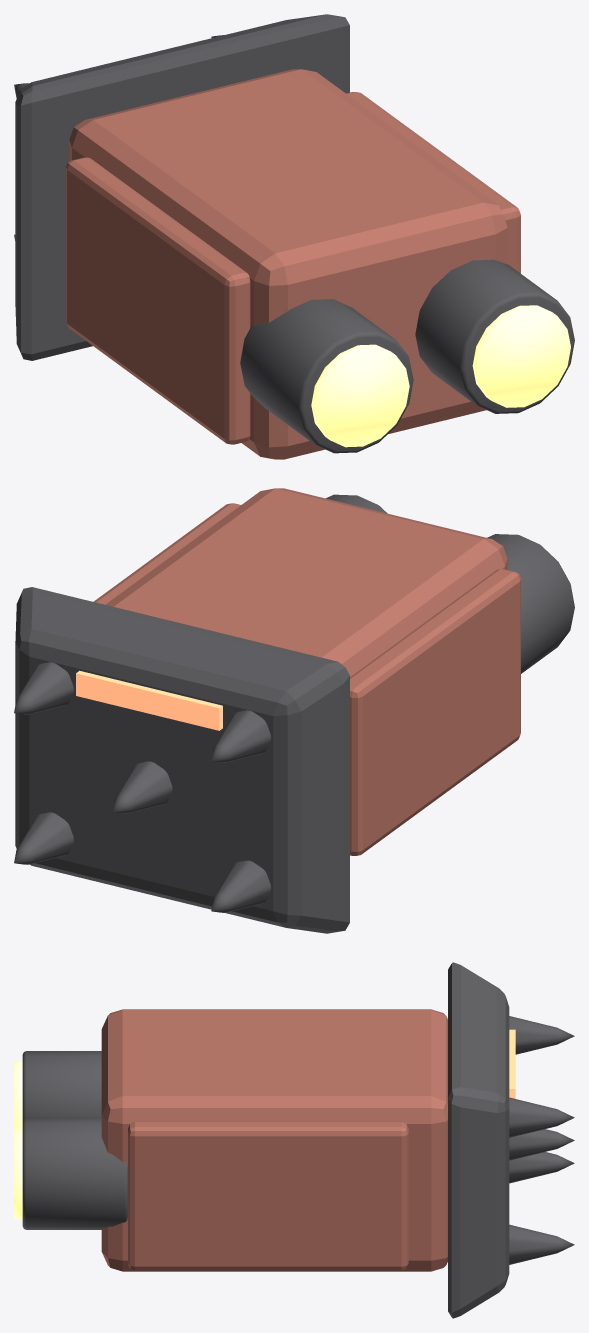
Rendered from rammbock.glb.
The picture shows the model from 3 angles, top to bottom: view 1: azimuth 30°, elevation 25°; view 2: azimuth 150°, elevation 25°; view 3: azimuth 270°, elevation 25°; orthographic projection. The views are drawn at different scales.
Visible parts, largest first — view 1: Rumpf.001, Flanke-1, Rammplatte, Triebwerk-1, Triebwerk1, Duese1.001, Duese-1.001, Flanke1; view 2: Rammplatte, Rumpf.001, Flanke-1, Triebwerk-1, Sehschlitz, Dorn3, Dorn0, Dorn4, Dorn1, Dorn2, Flanke1; view 3: Rumpf.001, Flanke1, Rammplatte, Triebwerk1, Triebwerk-1, Dorn1, Dorn3, Dorn0, Dorn2, Dorn4, Duese1.001, Duese-1.001 (+1 smaller).
Part boxes in pixels (<box>): Rumpf.001: <box>69,69,507,459</box>; Flanke-1: <box>66,157,250,444</box>; Rammplatte: <box>15,14,349,360</box>; Triebwerk-1: <box>240,299,413,453</box>; Triebwerk1: <box>415,259,574,413</box>; Duese1.001: <box>472,305,570,407</box>; Duese-1.001: <box>311,344,409,447</box>; Flanke1: <box>346,92,520,273</box>; Rammplatte: <box>15,587,349,933</box>; Rumpf.001: <box>105,488,507,676</box>; Flanke-1: <box>350,569,520,855</box>; Triebwerk-1: <box>487,534,574,673</box>; Sehschlitz: <box>76,670,222,730</box>; Dorn3: <box>14,812,73,864</box>; Dorn0: <box>211,710,271,762</box>; Dorn4: <box>112,761,172,813</box>; Dorn1: <box>14,662,73,714</box>; Dorn2: <box>211,860,271,912</box>; Flanke1: <box>93,503,240,604</box>; Rumpf.001: <box>101,1009,447,1271</box>; Flanke1: <box>128,1121,408,1270</box>; Rammplatte: <box>448,962,509,1318</box>; Triebwerk1: <box>22,1117,127,1229</box>; Triebwerk-1: <box>22,1051,101,1120</box>; Dorn1: <box>509,1097,574,1137</box>; Dorn3: <box>509,1224,574,1264</box>; Dorn0: <box>509,1016,574,1054</box>; Dorn2: <box>509,1152,574,1183</box>; Dorn4: <box>509,1129,574,1160</box>; Duese1.001: <box>14,1128,22,1219</box>; Duese-1.001: <box>14,1061,22,1128</box>.
Bounding box in the file's own units: 1.84 × 1.44 × 3.2.
